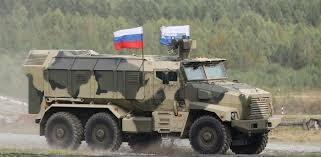armored_car: (21, 35, 286, 157)
